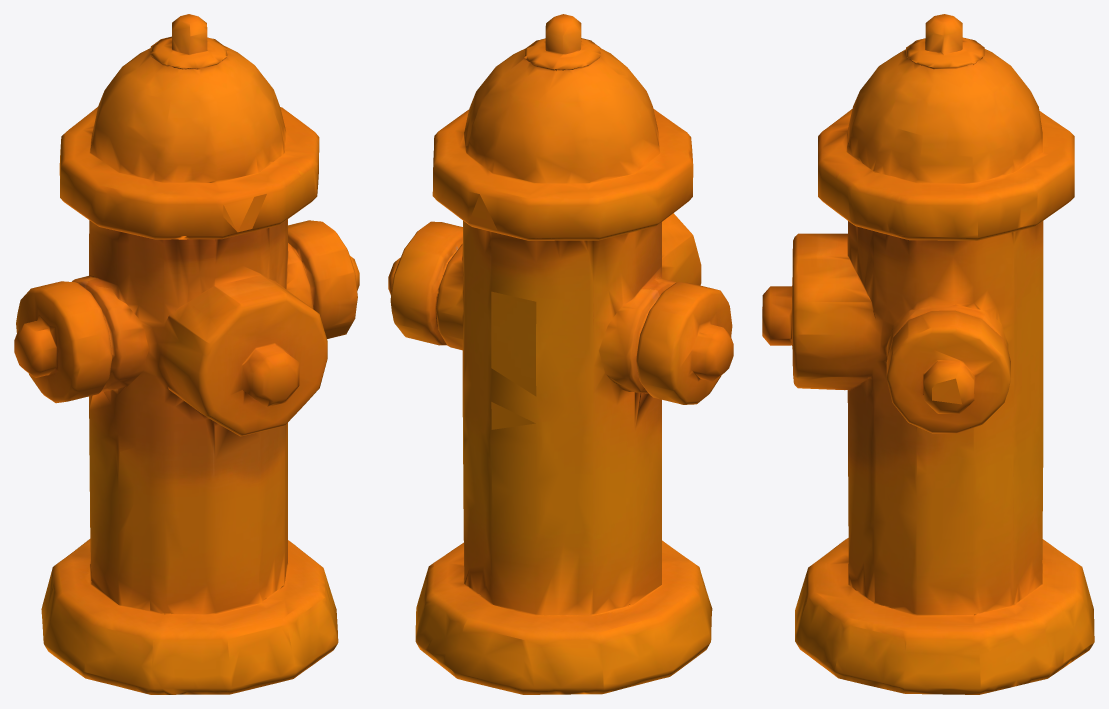
The model's file is tru_nuoc.glb.
3 views of the same model, side by side, from view 1: azimuth 30°, elevation 25°; view 2: azimuth 150°, elevation 25°; view 3: azimuth 270°, elevation 25° (orthographic).
Visible parts, largest first — view 1: model_LOD4; view 2: model_LOD4; view 3: model_LOD4.
Boxes of the visible parts, box(x1,y1,x2,y2) form: model_LOD4: box(14, 14, 359, 694); model_LOD4: box(388, 14, 733, 694); model_LOD4: box(762, 14, 1094, 694).
Size of the model in its own units: 1.06 by 1.9 by 0.9286.
1 material, 1 textured.
